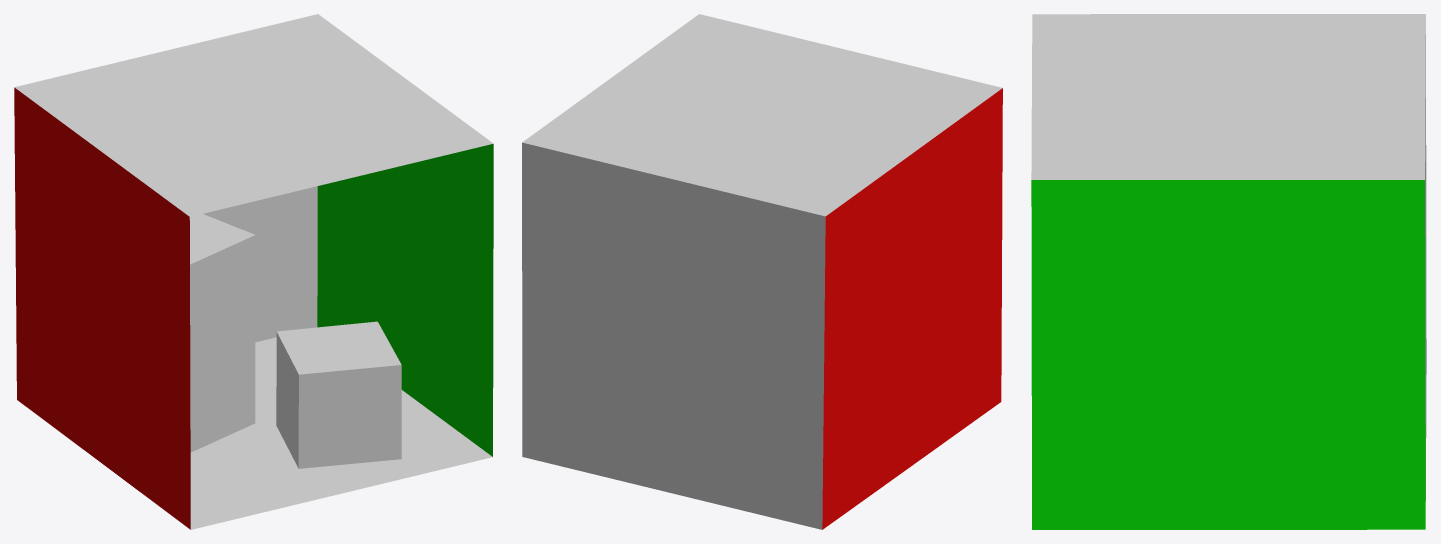
The model's file is cornell_box.obj.
The picture shows the model from 3 angles, left to right: view 1: azimuth 30°, elevation 25°; view 2: azimuth 150°, elevation 25°; view 3: azimuth 270°, elevation 25°; orthographic projection. The views are drawn at different scales.
Parts seen in each view (by area): view 1: Mesh; view 2: Mesh; view 3: Mesh.
Part boxes in pixels (<box>): Mesh: <box>14,14,493,529</box>; Mesh: <box>522,14,1002,529</box>; Mesh: <box>1031,14,1426,529</box>.
Bounding box in the file's own units: 557 × 551 × 561.
